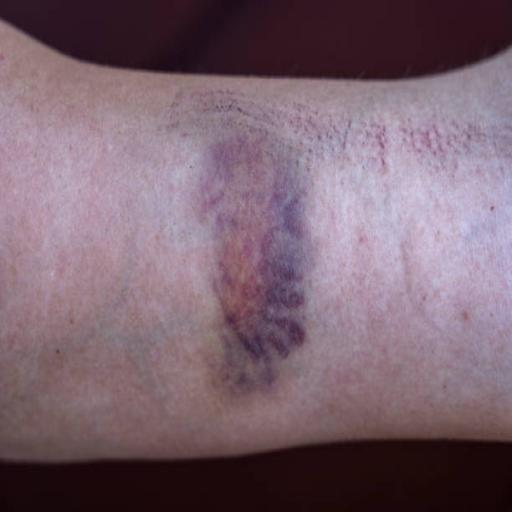bruises: (248, 200, 292, 350)
